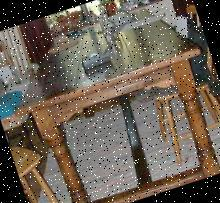Mesa: (2, 0, 219, 202)
Silla: (121, 0, 219, 174), (6, 127, 73, 202)
